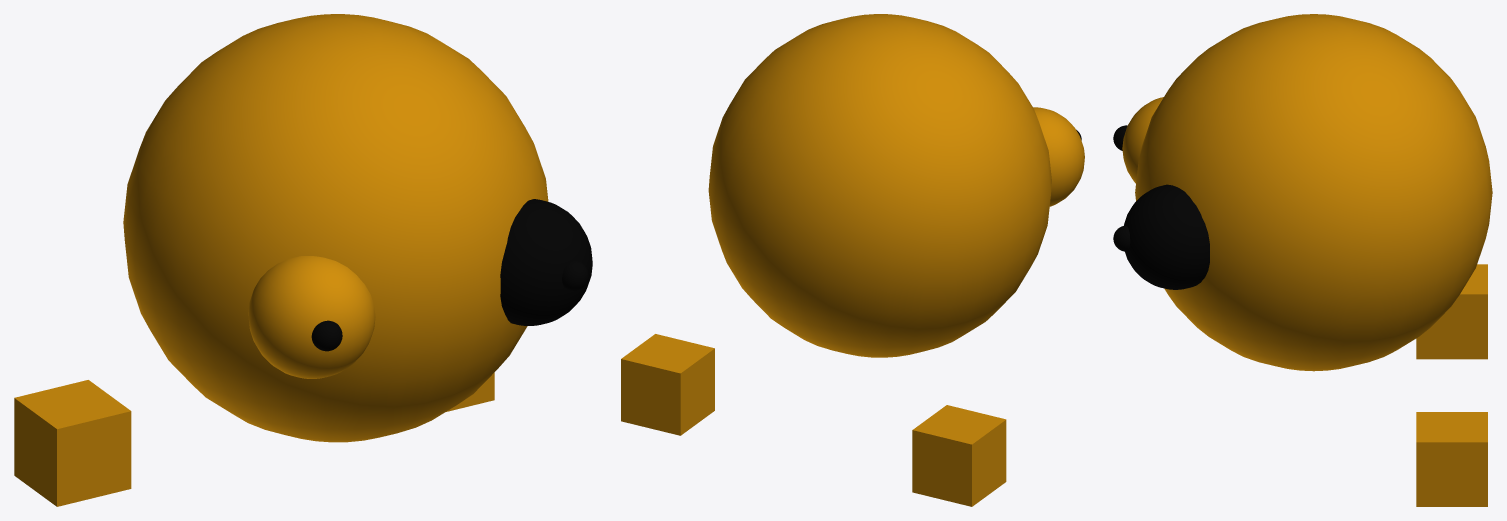
The model's file is hero.obj.
3 views of the same model, side by side, from view 1: azimuth 30°, elevation 25°; view 2: azimuth 150°, elevation 25°; view 3: azimuth 270°, elevation 25° (orthographic). The views are drawn at different scales.
Parts seen in each view (by area): view 1: base, Cube, eye01, eye02, pupil01, pupil02; view 2: base, Cube, eye01; view 3: base, Cube, eye02, eye01.
Part boxes in pixels (x1,y1,x2,y2): base: (123, 14, 548, 442); Cube: (14, 372, 494, 506); eye01: (248, 256, 375, 378); eye02: (500, 199, 592, 325); pupil01: (311, 320, 342, 351); pupil02: (562, 260, 588, 291); base: (708, 14, 1051, 357); Cube: (621, 334, 1006, 506); eye01: (1033, 107, 1084, 206); base: (1135, 14, 1492, 371); Cube: (1416, 264, 1487, 506); eye02: (1124, 184, 1209, 289); eye01: (1122, 97, 1163, 183).
Size of the model in its own units: 1.14 by 1.16 by 1.03.
